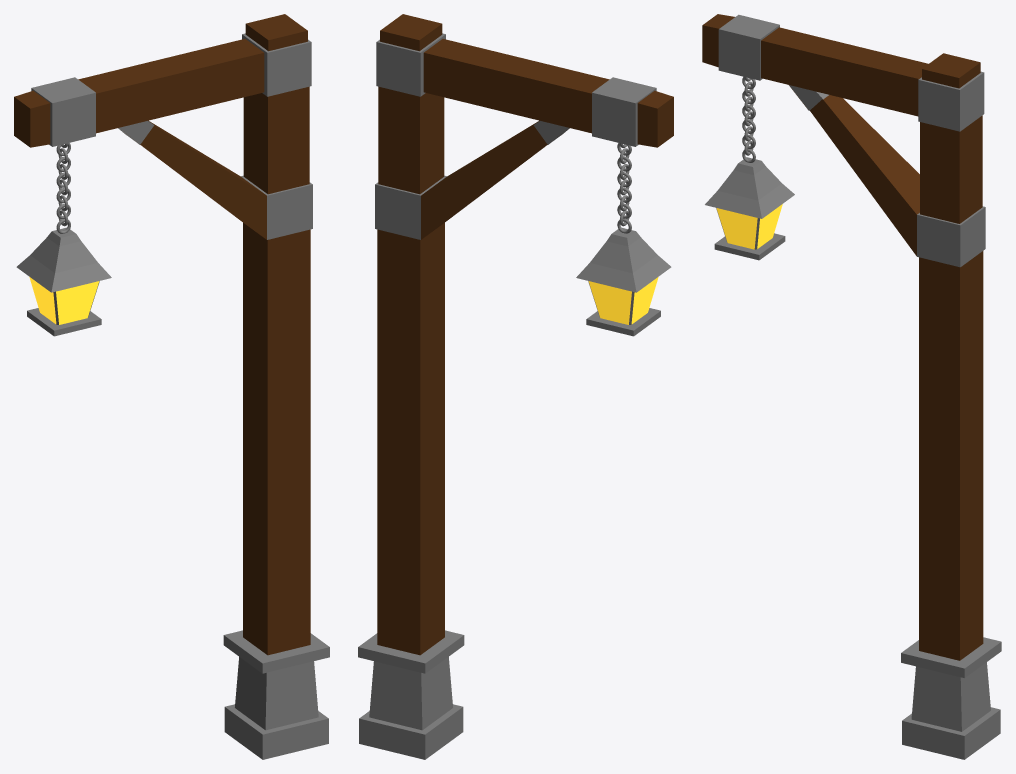
Rendered from Lantern.fbx.
3 views of the same model, side by side, from view 1: azimuth 30°, elevation 25°; view 2: azimuth 150°, elevation 25°; view 3: azimuth 330°, elevation 25° (orthographic). The views are drawn at different scales.
Parts seen in each view (by area): view 1: Lantern, Light, Kette; view 2: Lantern, Light, Kette; view 3: Lantern, Light, Kette.
Part boxes in pixels (left/top/right/bottom): Lantern: left=14, top=14, right=329, bottom=759; Light: left=16, top=227, right=111, bottom=336; Kette: left=56, top=143, right=70, bottom=233; Lantern: left=358, top=14, right=673, bottom=759; Light: left=576, top=228, right=671, bottom=336; Kette: left=617, top=143, right=631, bottom=233; Lantern: left=702, top=14, right=1001, bottom=759; Light: left=705, top=157, right=794, bottom=260; Kette: left=742, top=76, right=755, bottom=162.
Size of the model in its own units: 37.54 by 161 by 379.
